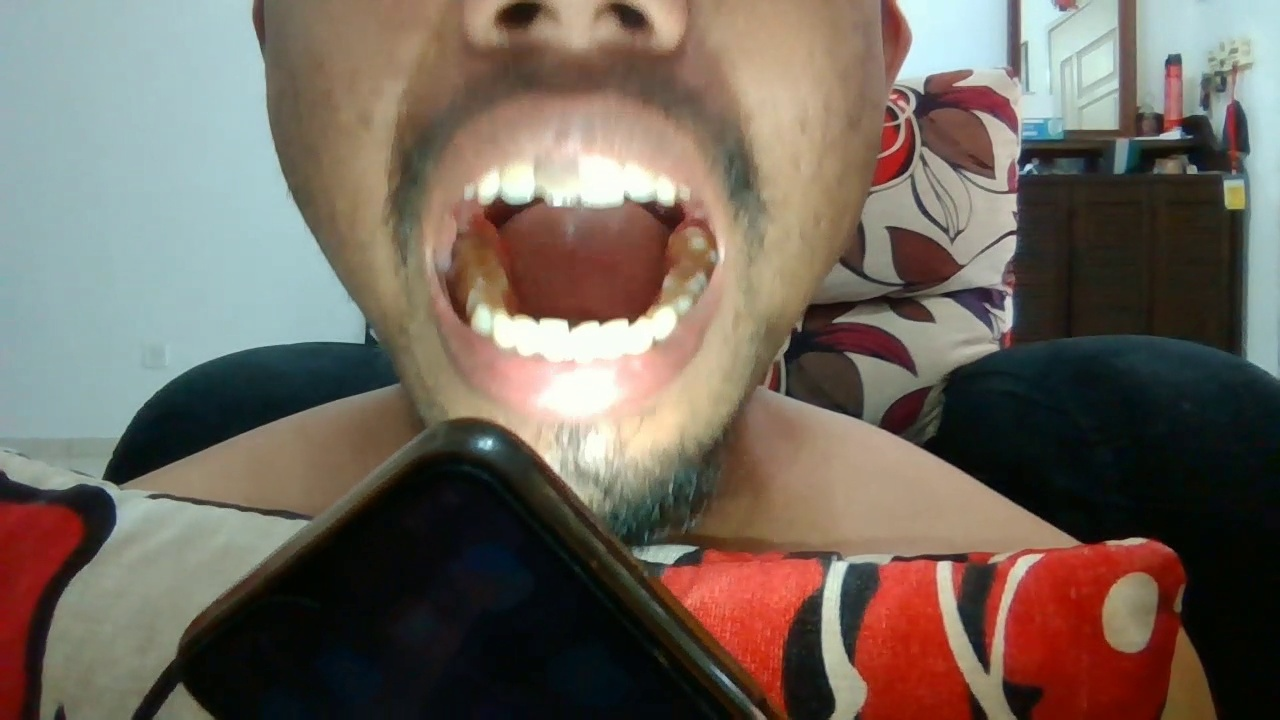1st Premolar: (646, 302, 677, 341), (468, 305, 507, 335)
Canine: (475, 164, 500, 204), (631, 316, 655, 354), (493, 312, 513, 351), (658, 174, 677, 207)
Central Incisor: (534, 154, 580, 208), (580, 153, 623, 209), (539, 316, 571, 363), (571, 319, 601, 362)
Lateral Incisor: (624, 157, 657, 203), (500, 159, 533, 204), (601, 316, 631, 361), (513, 314, 539, 357)
